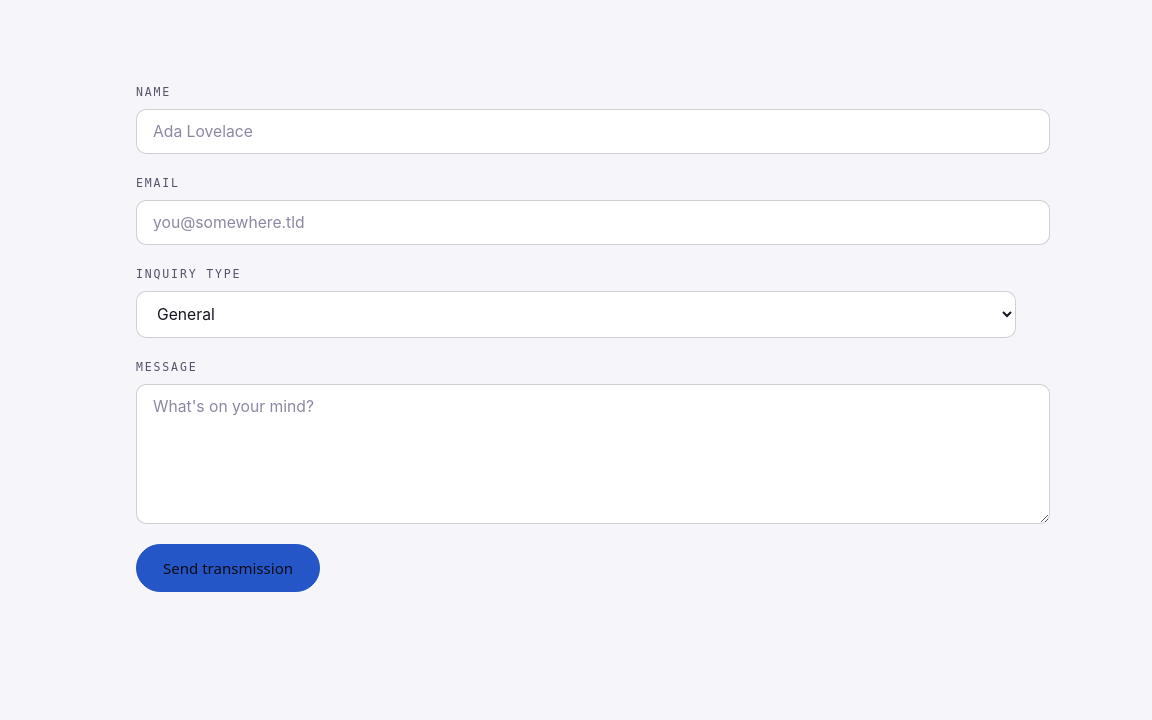
Scenario: pages render › contact form validates and blocks bad submissions
(page scrolled)
Click the button "Send transmission". click: x=228, y=568
box: [136,544,320,592]
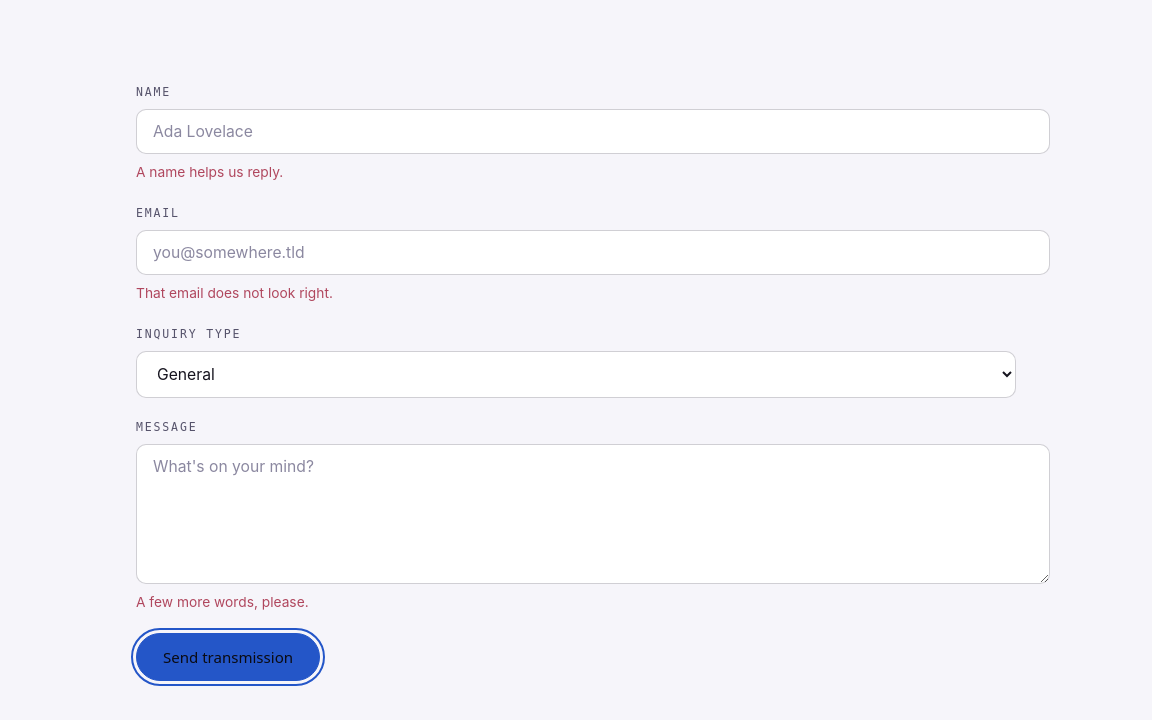
Expected: the button "Send transmission" is shown, [136,633,320,681]
Now the text "A few more words, please." is shown, box [136,594,309,610]
